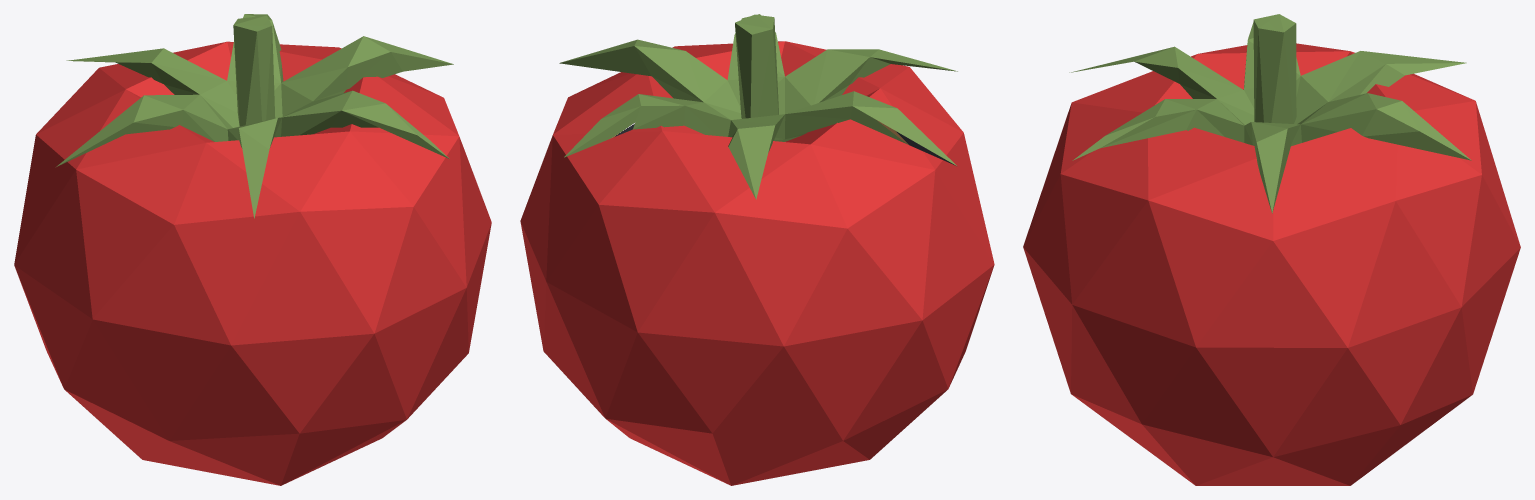
Rendered from Tomato.fbx.
3 renders of one model, left to right at view 1: azimuth 30°, elevation 25°; view 2: azimuth 150°, elevation 25°; view 3: azimuth 270°, elevation 25°, orthographic. The views are drawn at different scales.
Parts seen in each view (by area): view 1: Tomato; view 2: Tomato; view 3: Tomato.
Boxes of the visible parts, x1,y1,x2,y2 form: Tomato: (14, 14, 491, 485); Tomato: (520, 14, 994, 485); Tomato: (1023, 14, 1520, 485).
Size of the model in its own units: 0.1616 by 0.1697 by 0.1694.
